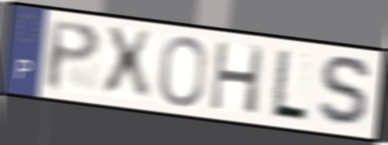H: (208, 39, 267, 117)
L: (268, 47, 311, 124)
O: (157, 34, 209, 109)
P: (45, 18, 104, 94)
S: (315, 53, 376, 130)
X: (102, 25, 155, 103)
